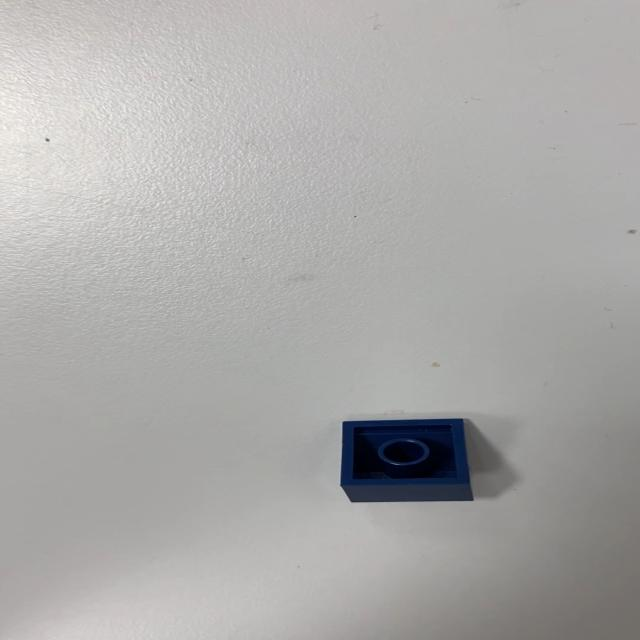P2x2x1: (338, 417, 474, 503)
